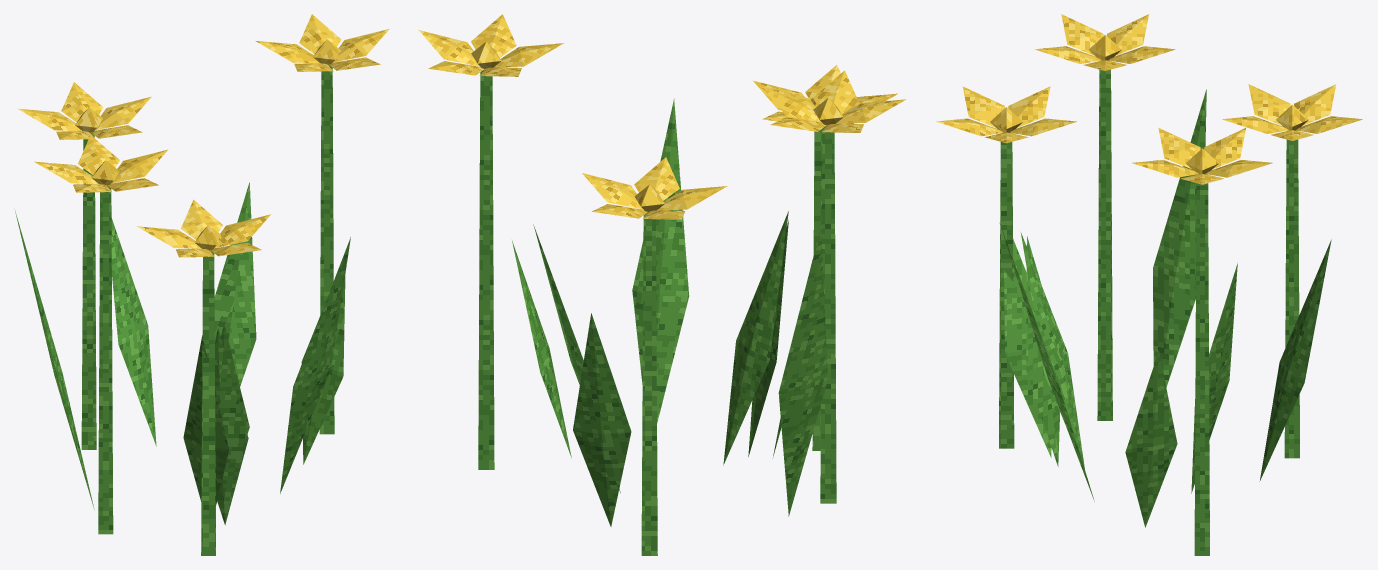
File: flowers_yellow.glb
3 renders of one model, left to right at view 1: azimuth 30°, elevation 25°; view 2: azimuth 150°, elevation 25°; view 3: azimuth 270°, elevation 25°, orthographic. The views are drawn at different scales.
Visible parts, largest first — view 1: Body.026; view 2: Body.026; view 3: Body.026.
Part boxes in pixels (box(x1,y1,x2,y2)): Body.026: box(15, 14, 389, 555); Body.026: box(418, 14, 905, 555); Body.026: box(936, 14, 1362, 555).
Bounding box in the file's own units: 0.4076 × 0.4011 × 0.3835.
2 materials, 2 textured.
